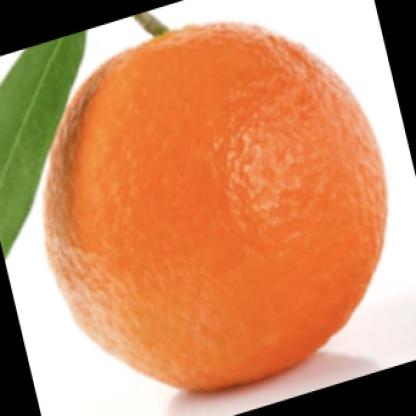fresh: (46, 27, 387, 393)
